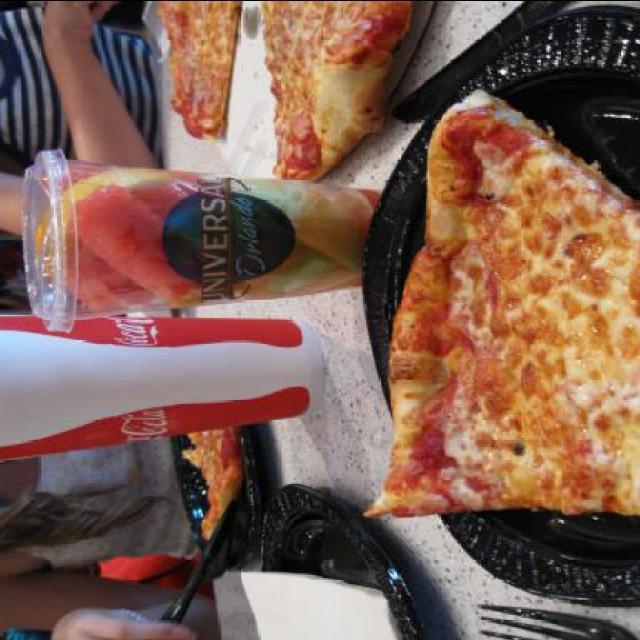Pizza: (374, 78, 634, 530), (257, 0, 413, 189), (153, 0, 244, 143), (167, 406, 258, 542)
